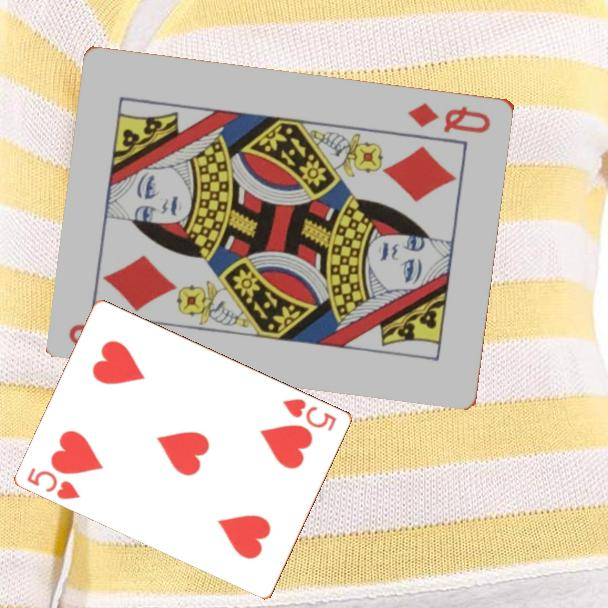d12: (404, 99, 494, 136)
h05: (279, 395, 340, 434), (24, 464, 83, 502)
